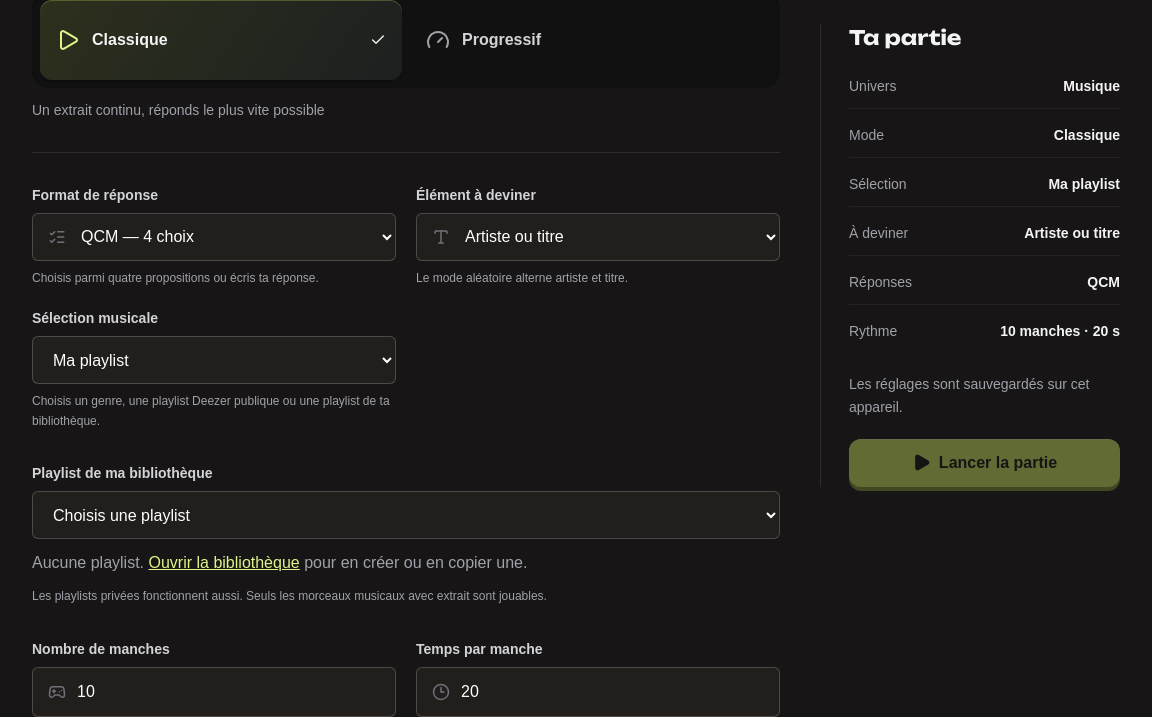
it: Settings playlist source › keeps the empty library understandable and Deezer available
The width and height of the screenshot is (1152, 717).
(page scrolled)
Expected: the button "Lancer la partie" is disabled, [849, 438, 1120, 486]
Select "Playlist Deezer" in the dropdown labelled "Sélection musicale" at (214, 360), box [32, 336, 396, 384]
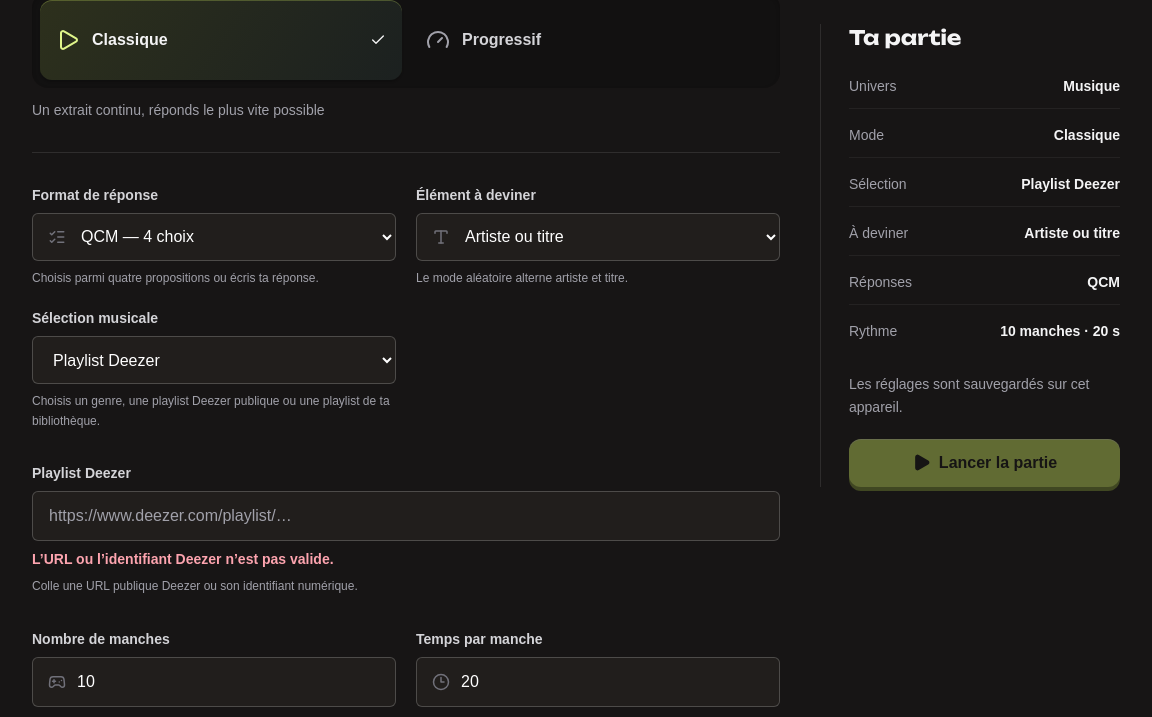
Type "https://www.deezer.com/fr/playlist/3155776842" into the field labelled "Playlist Deezer" at (406, 516), box [32, 491, 780, 541]
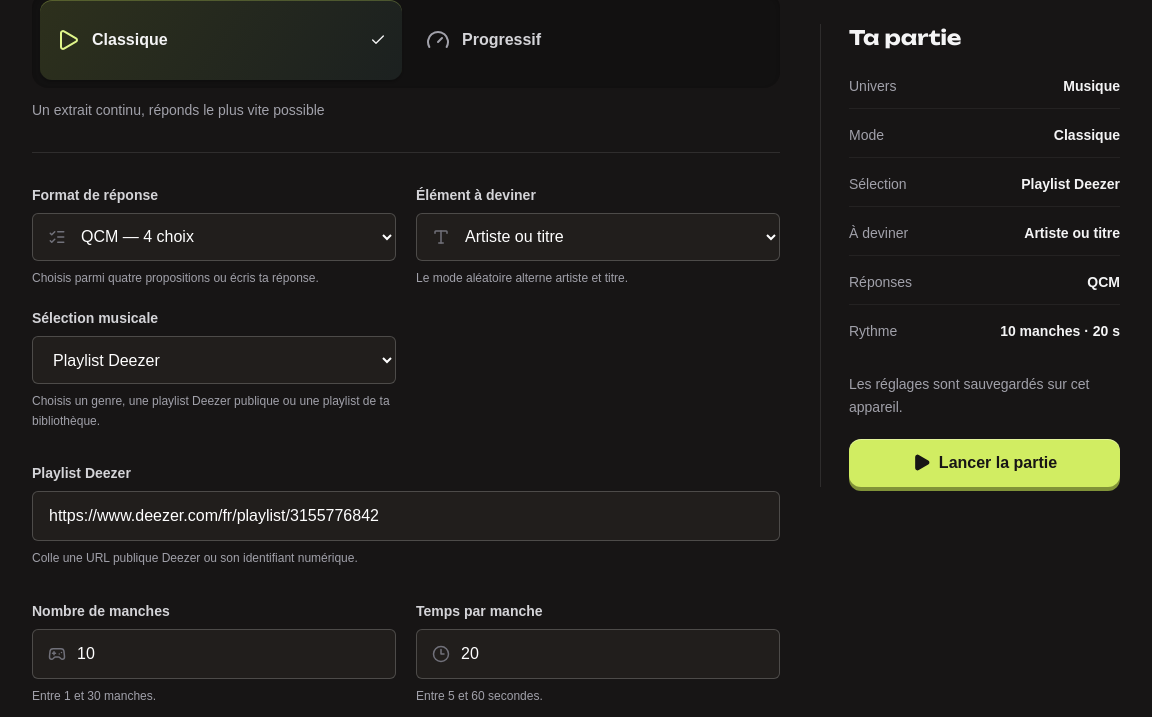
Now the button "Lancer la partie" is enabled, box [849, 438, 1120, 486]
